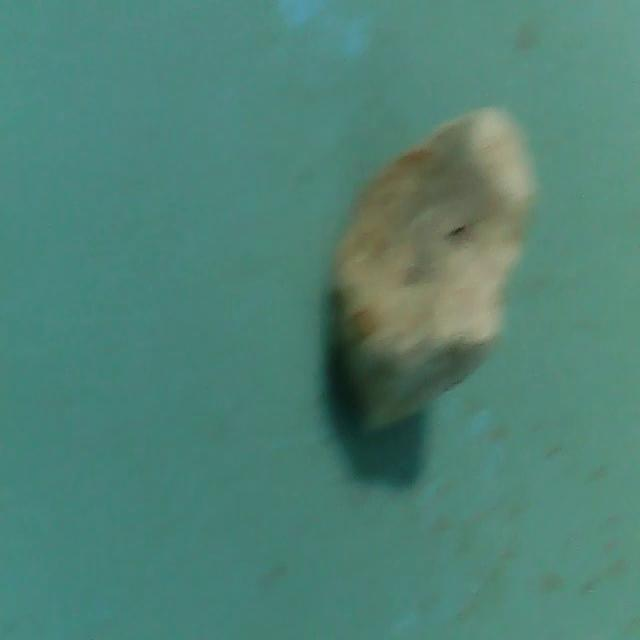rock: (323, 93, 549, 442)
